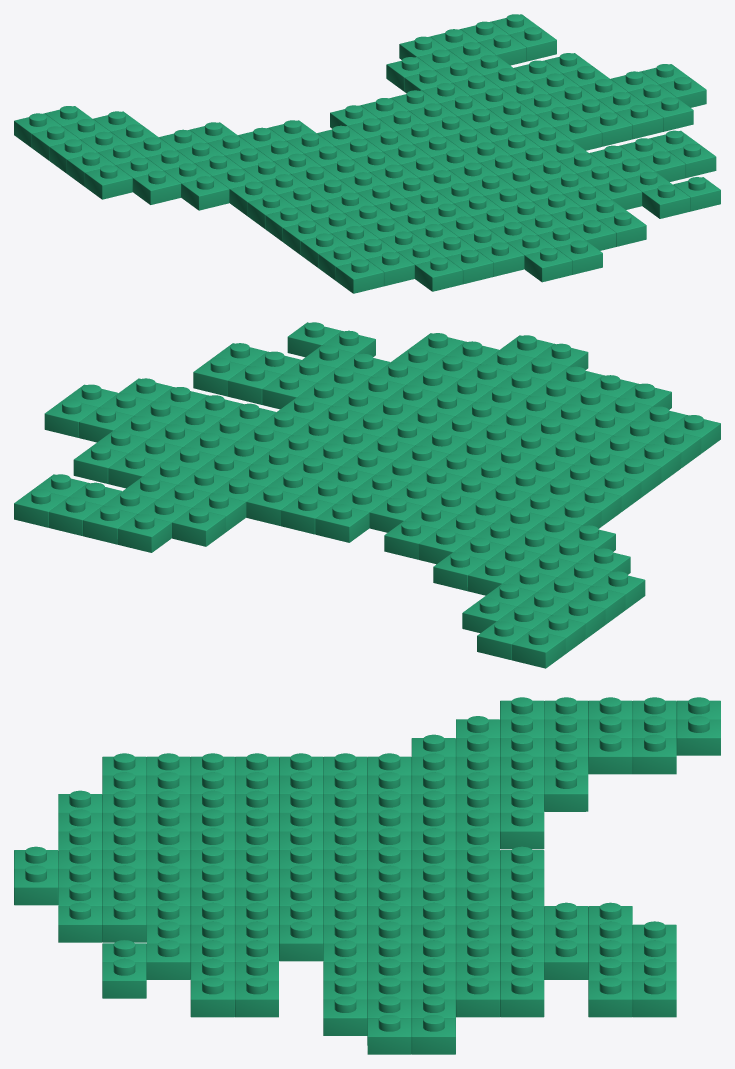
File: Alaska.fbx
3 views of the same model, one above another, from view 1: azimuth 30°, elevation 25°; view 2: azimuth 150°, elevation 25°; view 3: azimuth 270°, elevation 25° (orthographic). The views are drawn at different scales.
Visible parts, largest first — view 1: Cylinder_62; view 2: Cylinder_62; view 3: Cylinder_62.
Part boxes in pixels (box(x1,y1,x2,y2)): Cylinder_62: box(14, 14, 720, 293); Cylinder_62: box(14, 322, 720, 668); Cylinder_62: box(14, 697, 720, 1054).
Bounding box in the file's own units: 1800 × 65.03 × 1600.
